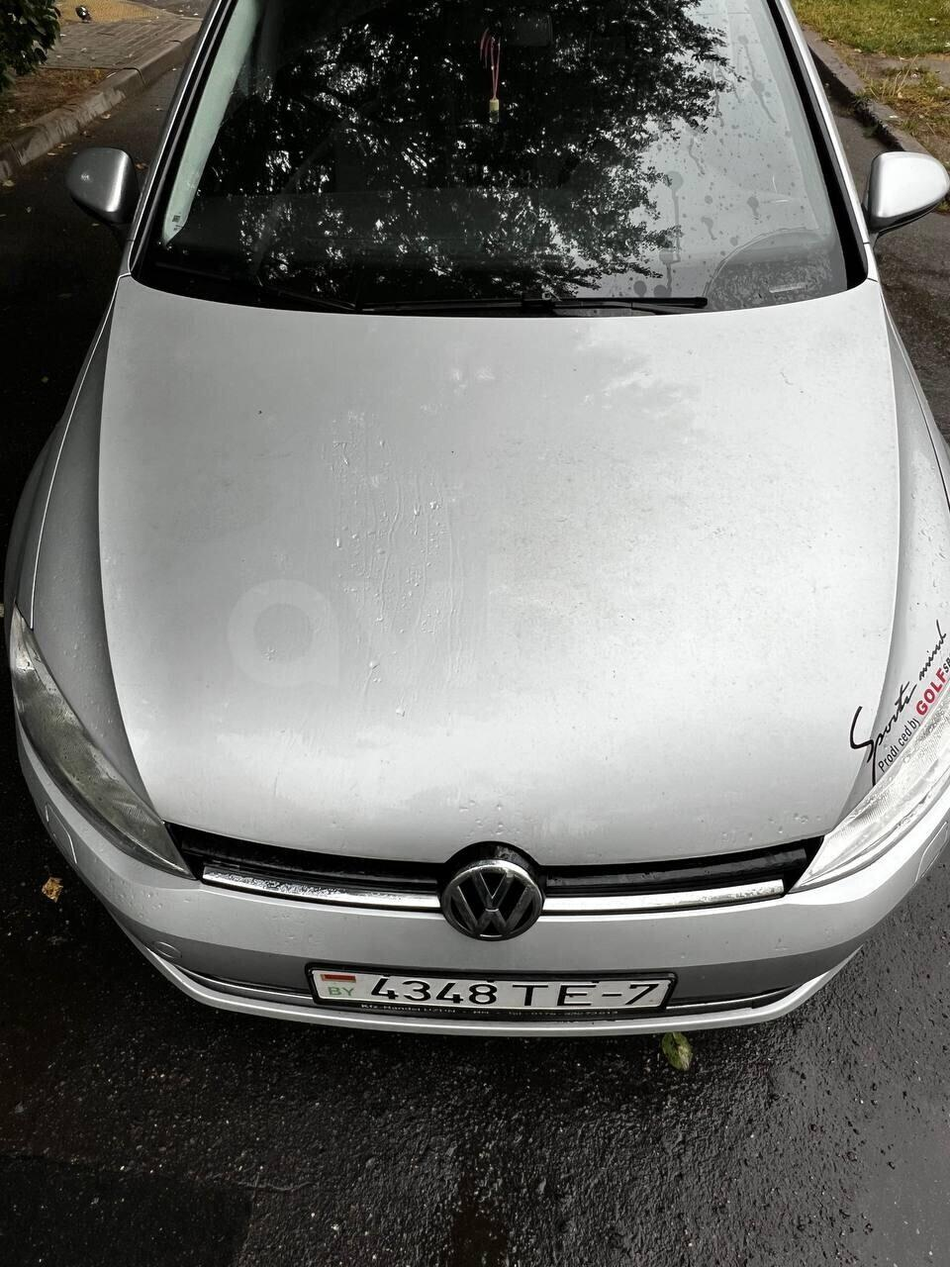Golf_2012-2017: (0, 0, 950, 1071)
